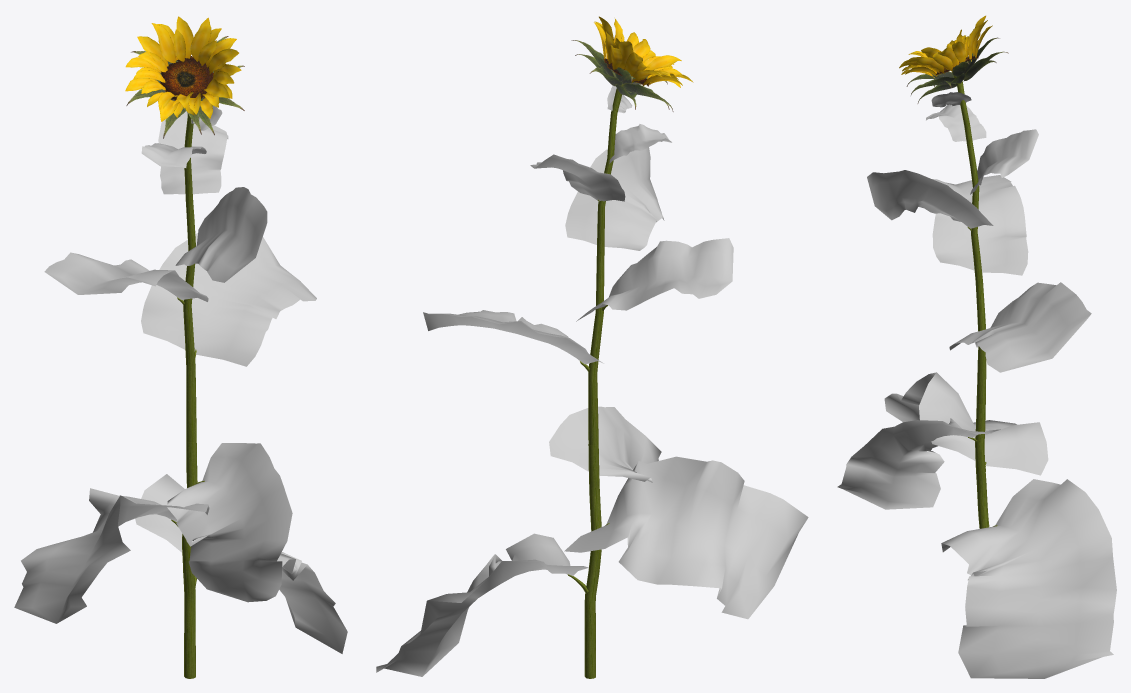
3 views of the same model, side by side, from view 1: azimuth 30°, elevation 25°; view 2: azimuth 150°, elevation 25°; view 3: azimuth 270°, elevation 25° (orthographic). The views are drawn at different scales.
Visible parts, largest first — view 1: VG14_3; view 2: VG14_3; view 3: VG14_3.
Part boxes in pixels (left/top/right/bottom): VG14_3: left=14, top=16, right=347, bottom=678; VG14_3: left=376, top=16, right=808, bottom=678; VG14_3: left=837, top=15, right=1116, bottom=678.
Bounding box in the file's own units: 0.7086 × 1.43 × 0.611.
